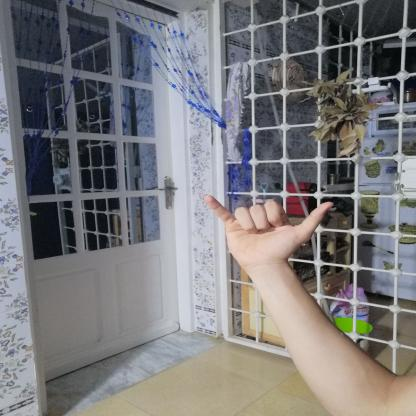YA: (188, 183, 345, 274)
